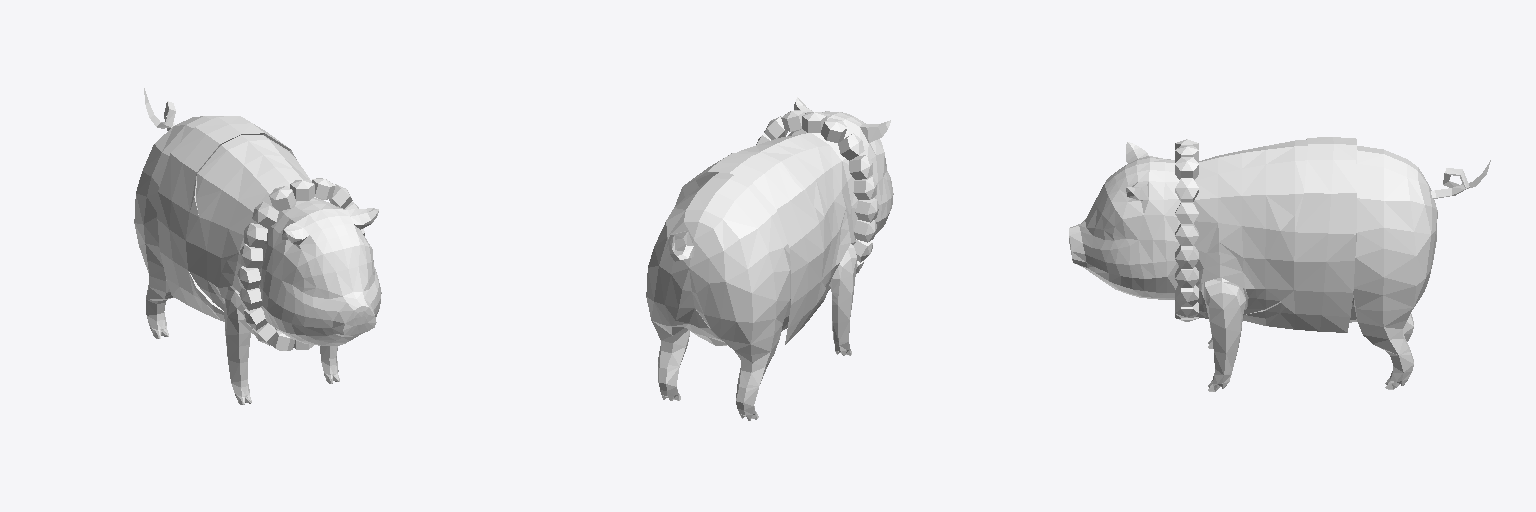
The model's file is Tonton.obj.
3 renders of one model, left to right at view 1: azimuth 30°, elevation 25°; view 2: azimuth 150°, elevation 25°; view 3: azimuth 270°, elevation 25°, orthographic.
Visible parts, largest first — view 1: Tonton_40_gton00t0_body; view 2: Tonton_40_gton00t0_body; view 3: Tonton_40_gton00t0_body.
Part boxes in pixels (x1,y1,x2,y2): Tonton_40_gton00t0_body: (134, 88, 381, 404); Tonton_40_gton00t0_body: (646, 97, 893, 420); Tonton_40_gton00t0_body: (1069, 137, 1490, 391).
Size of the model in its own units: 0.3955 by 0.6641 by 1.14.